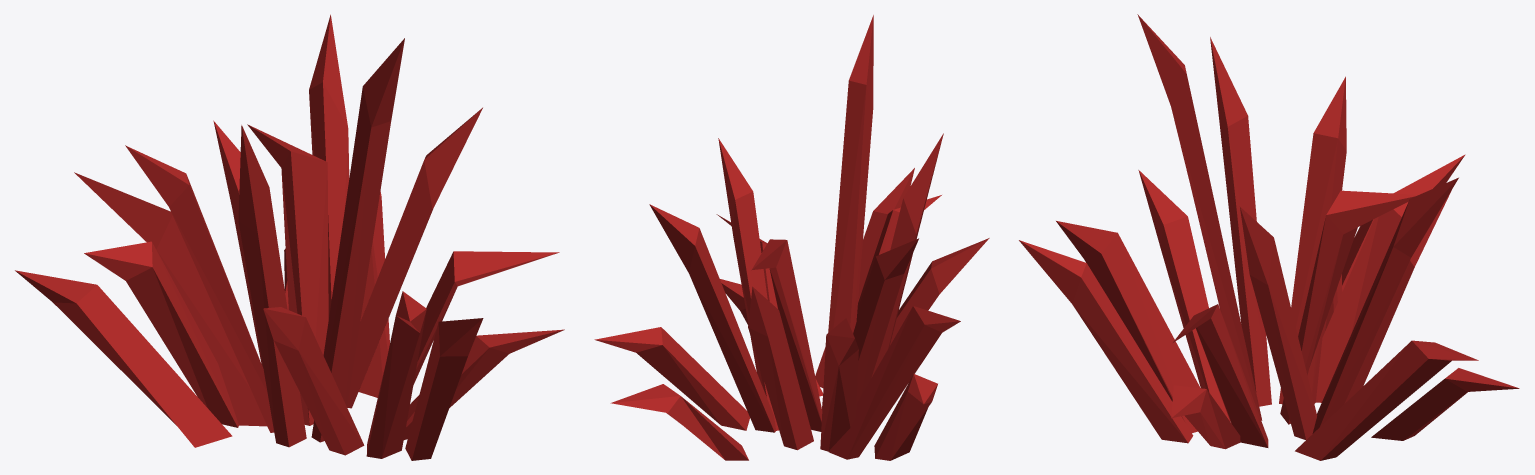
Rendered from Grass2.fbx.
The picture shows the model from 3 angles, left to right: view 1: azimuth 30°, elevation 25°; view 2: azimuth 150°, elevation 25°; view 3: azimuth 270°, elevation 25°; orthographic projection. The views are drawn at different scales.
Visible parts, largest first — view 1: Grass2; view 2: Grass2; view 3: Grass2.
Boxes of the visible parts, box(x1,y1,x2,y2) form: Grass2: box(15, 14, 564, 460); Grass2: box(594, 15, 989, 460); Grass2: box(1019, 14, 1519, 460).
Size of the model in its own units: 111 by 116 by 129.
